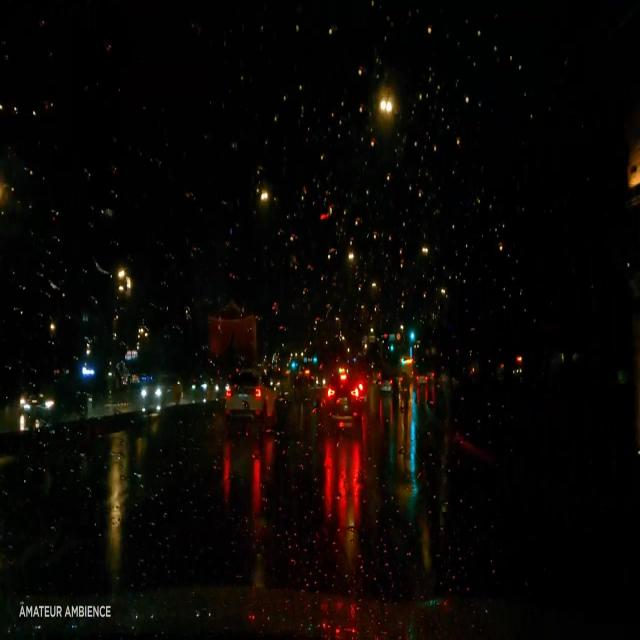Car: (225, 368, 285, 422), (321, 374, 362, 430), (23, 388, 90, 419), (140, 371, 181, 406)
